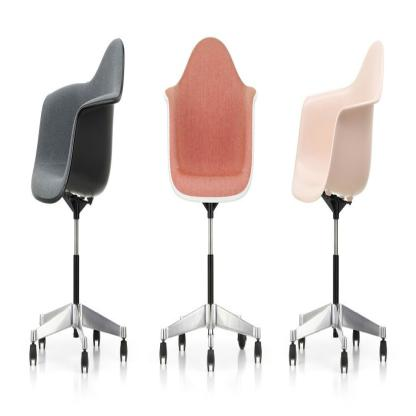chair: (26, 39, 135, 375)
